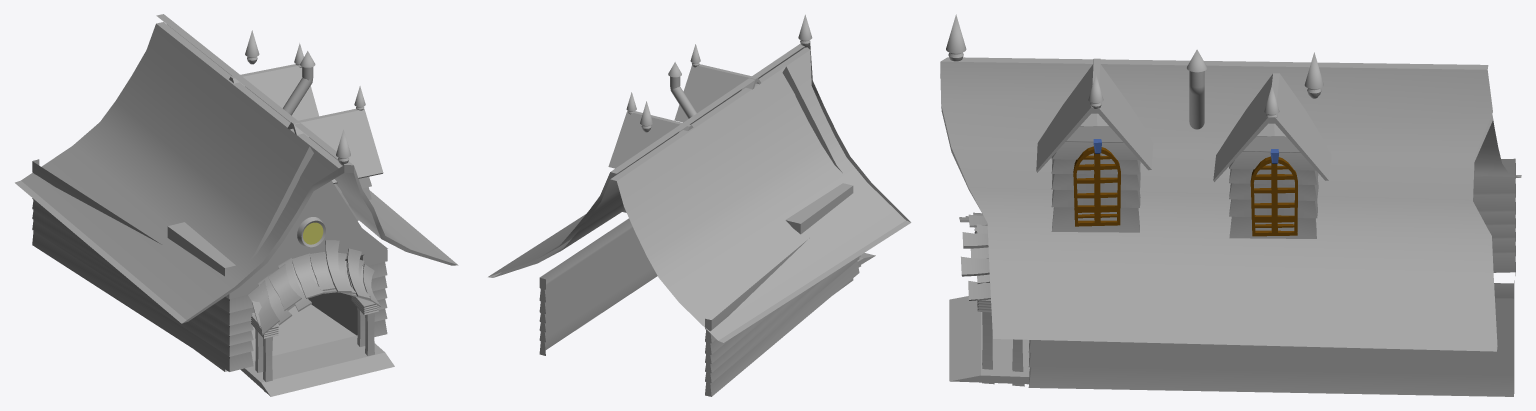
The picture shows the model from 3 angles, left to right: view 1: azimuth 30°, elevation 25°; view 2: azimuth 150°, elevation 25°; view 3: azimuth 270°, elevation 25°; orthographic projection. The views are drawn at different scales.
Visible parts, largest first — view 1: pCube86, pCube103, pCube102, pCube104, pCube71, pCube109, pCube110, pCone5, clock:pCylinder1; view 2: pCube86, pCube103, pCube109, pCube110, pCube104, pCone5; view 3: pCube86, pCube103, pCube109, pCube110, pCube71, pCube102, pCone5, pCone1, pCone4.
Boxes of the visible parts, left/top/right/bottom form: pCube86: left=15, top=14, right=458, bottom=323; pCube103: left=32, top=146, right=387, bottom=371; pCube102: left=247, top=240, right=380, bottom=392; pCube104: left=167, top=222, right=361, bottom=371; pCube71: left=240, top=335, right=394, bottom=396; pCube109: left=287, top=108, right=383, bottom=220; pCube110: left=229, top=64, right=318, bottom=120; pCone5: left=283, top=51, right=315, bottom=115; clock:pCylinder1: left=297, top=217, right=325, bottom=247; pCube86: left=488, top=43, right=911, bottom=342; pCube103: left=539, top=66, right=859, bottom=396; pCube109: left=674, top=64, right=760, bottom=122; pCube110: left=608, top=111, right=693, bottom=212; pCube104: left=785, top=183, right=853, bottom=294; pCone5: left=668, top=62, right=696, bottom=118; pCube86: left=940, top=57, right=1521, bottom=351; pCube103: left=1028, top=158, right=1515, bottom=396; pCube109: left=1036, top=58, right=1153, bottom=232; pCube110: left=1213, top=73, right=1331, bottom=238; pCube71: left=949, top=296, right=1029, bottom=384; pCube102: left=959, top=212, right=1024, bottom=386; pCone5: left=1187, top=49, right=1207, bottom=129; pCone1: left=946, top=14, right=966, bottom=61; pCone4: left=1304, top=52, right=1323, bottom=98.
Bounding box in the file's own units: 14.75 × 12.43 × 19.16.
